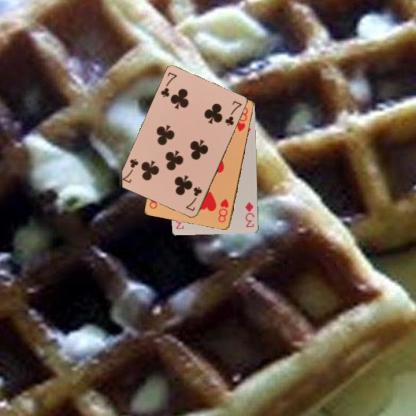3d: (243, 199, 255, 228)
7c: (184, 184, 204, 213), (158, 70, 178, 99)
8h: (215, 196, 230, 224)
